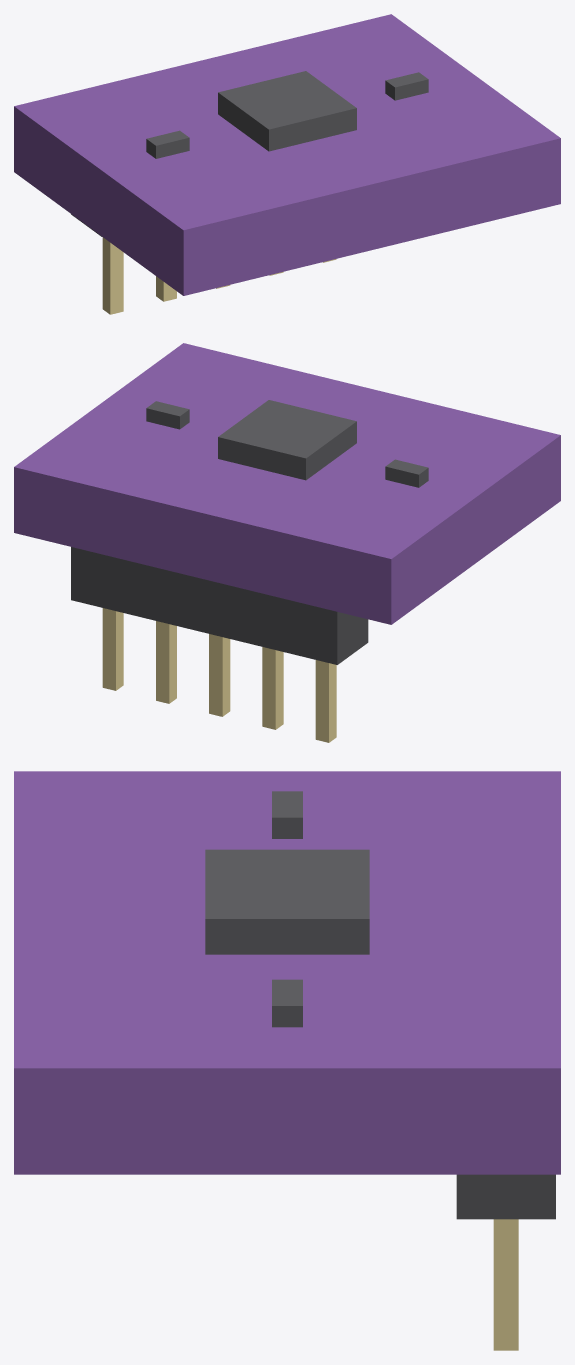
File: max30102.glb
3 renders of one model, top to bottom at view 1: azimuth 30°, elevation 25°; view 2: azimuth 150°, elevation 25°; view 3: azimuth 270°, elevation 25°, orthographic. The views are drawn at different scales.
Parts seen in each view (by area): view 1: max30102-pcb, max30102-ic, max30102-pins; view 2: max30102-pcb, max30102-plastic, max30102-ic, max30102-pins; view 3: max30102-pcb, max30102-ic, max30102-plastic, max30102-pins.
Boxes of the visible parts, left/top/right/bottom form: max30102-pcb: left=14, top=14, right=560, bottom=295; max30102-ic: left=146, top=71, right=428, bottom=158; max30102-pins: left=102, top=237, right=336, bottom=314; max30102-pcb: left=14, top=343, right=560, bottom=624; max30102-plastic: left=71, top=547, right=368, bottom=664; max30102-ic: left=146, top=400, right=428, bottom=487; max30102-pins: left=102, top=608, right=336, bottom=742; max30102-pcb: left=14, top=771, right=560, bottom=1174; max30102-ic: left=205, top=791, right=369, bottom=1027; max30102-plastic: left=456, top=1174, right=555, bottom=1219; max30102-pins: left=493, top=1219, right=518, bottom=1350.
Bounding box in the file's own units: 0.018 × 0.0107 × 0.014.
